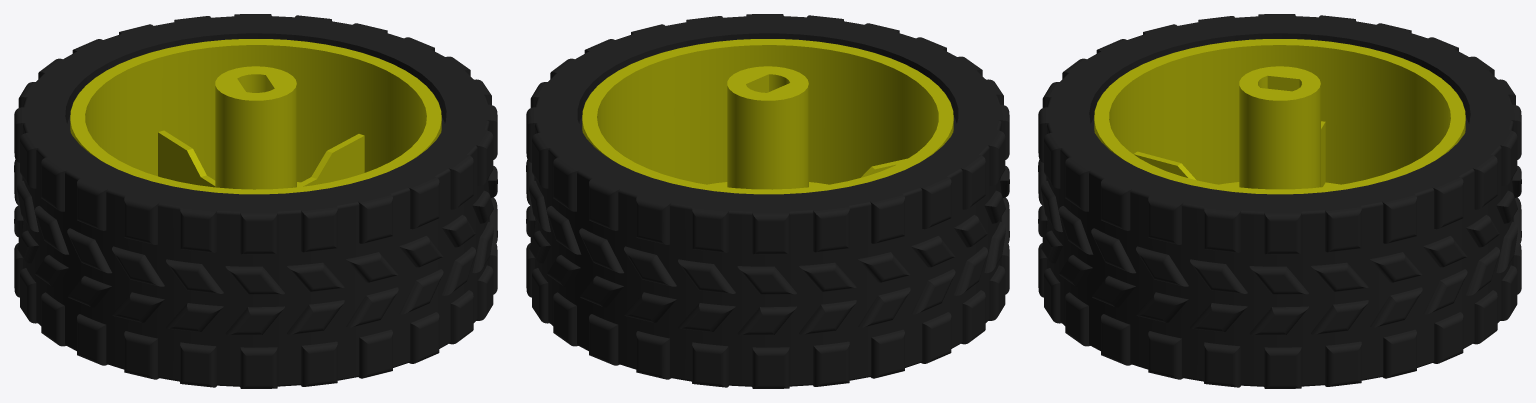
The model's file is car_wheel_right.obj.
3 views of the same model, side by side, from view 1: azimuth 30°, elevation 25°; view 2: azimuth 150°, elevation 25°; view 3: azimuth 270°, elevation 25° (orthographic).
Bounding box in the file's own units: 0.0651 × 0.0305 × 0.0651.
